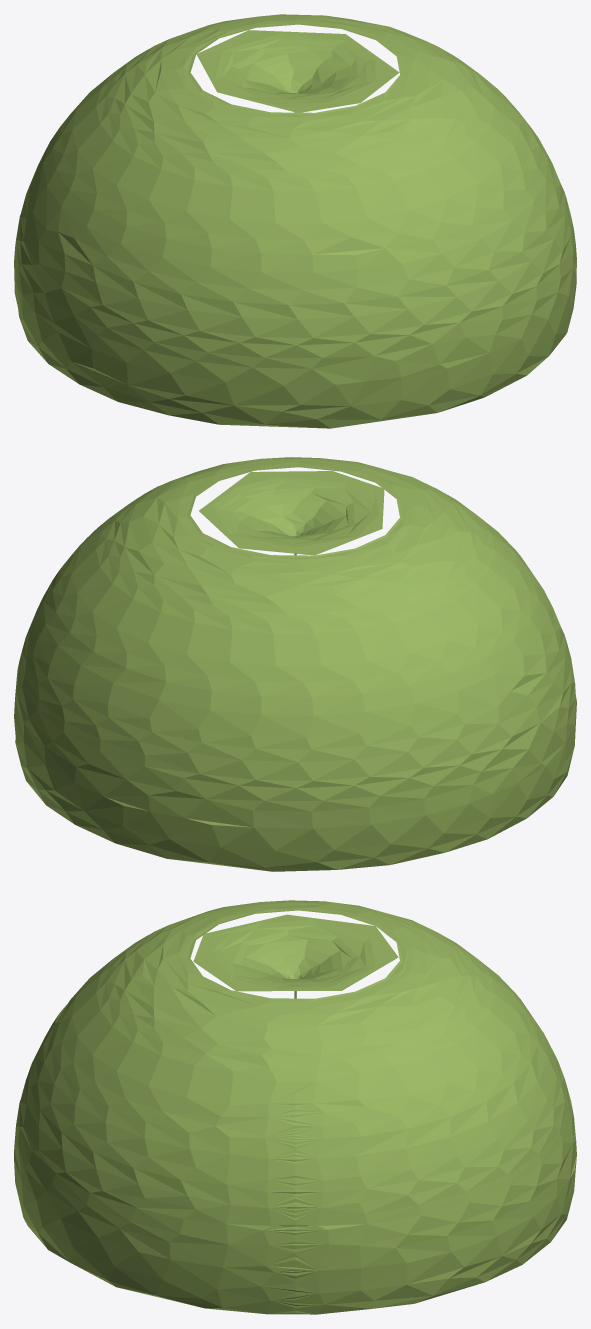
The model's file is t1_hv_tcp_envelope.glb.
3 renders of one model, top to bottom at view 1: azimuth 30°, elevation 25°; view 2: azimuth 150°, elevation 25°; view 3: azimuth 270°, elevation 25°, orthographic.
Visible parts, largest first — view 1: geometry_0; view 2: geometry_0; view 3: geometry_0.
Part boxes in pixels (x1=…): geometry_0: x1=14, y1=14, x2=576, y2=428; geometry_0: x1=14, y1=457, x2=576, y2=871; geometry_0: x1=14, y1=900, x2=576, y2=1314.
Size of the model in its own units: 9.61 by 4.6 by 9.61.
